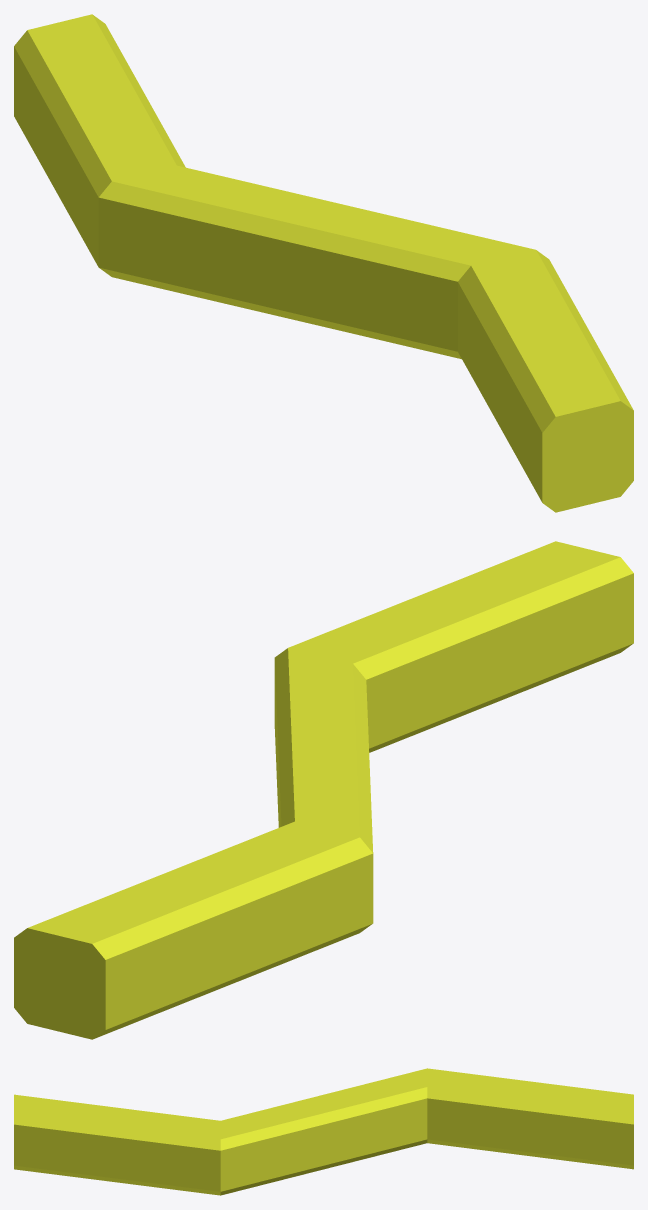
The model's file is French Fry 3.fbx.
3 renders of one model, top to bottom at view 1: azimuth 30°, elevation 25°; view 2: azimuth 150°, elevation 25°; view 3: azimuth 270°, elevation 25°, orthographic. The views are drawn at different scales.
Parts seen in each view (by area): view 1: French Fry 3; view 2: French Fry 3; view 3: French Fry 3.
Part boxes in pixels (left/top/right/bottom): French Fry 3: left=14, top=14, right=633, bottom=512; French Fry 3: left=14, top=541, right=633, bottom=1039; French Fry 3: left=14, top=1068, right=633, bottom=1195.
Bounding box in the file's own units: 30 × 10 × 100.
